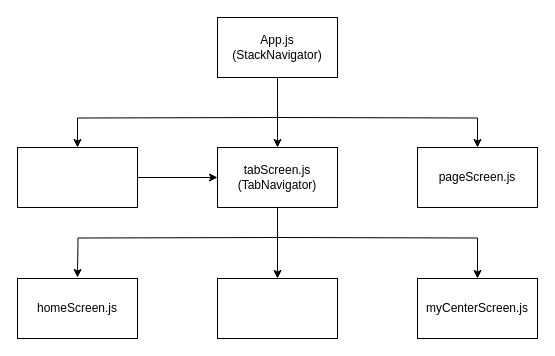
This 555x356 diagram has some shape labels left out. The shapes that lost their labels are listed below. From the top down, each one's centre as x and y in pixels, then its label:
At [77,177]: "loginScreen.js".
At [277,308]: "orderScreen.js".
